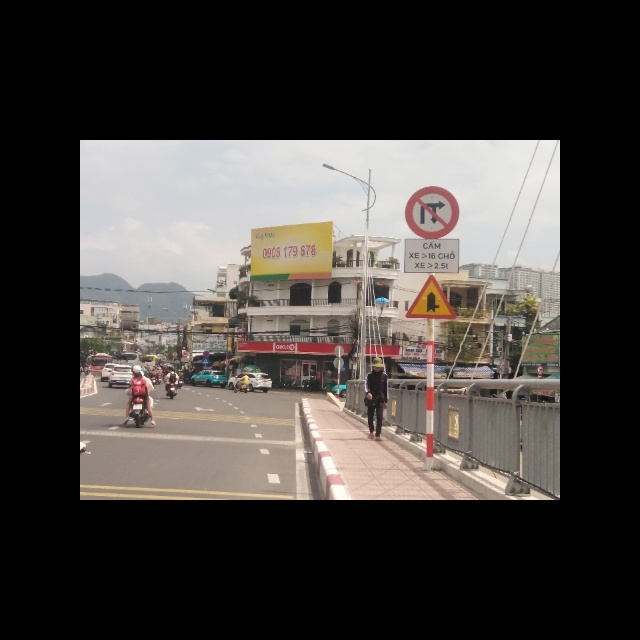Cấm quay đầu và rẽ phải: (403, 186, 459, 237)
Giao nhau với đường không ưu tiên: (405, 274, 456, 319)
